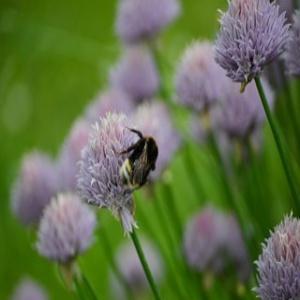bee: (117, 123, 161, 201)
